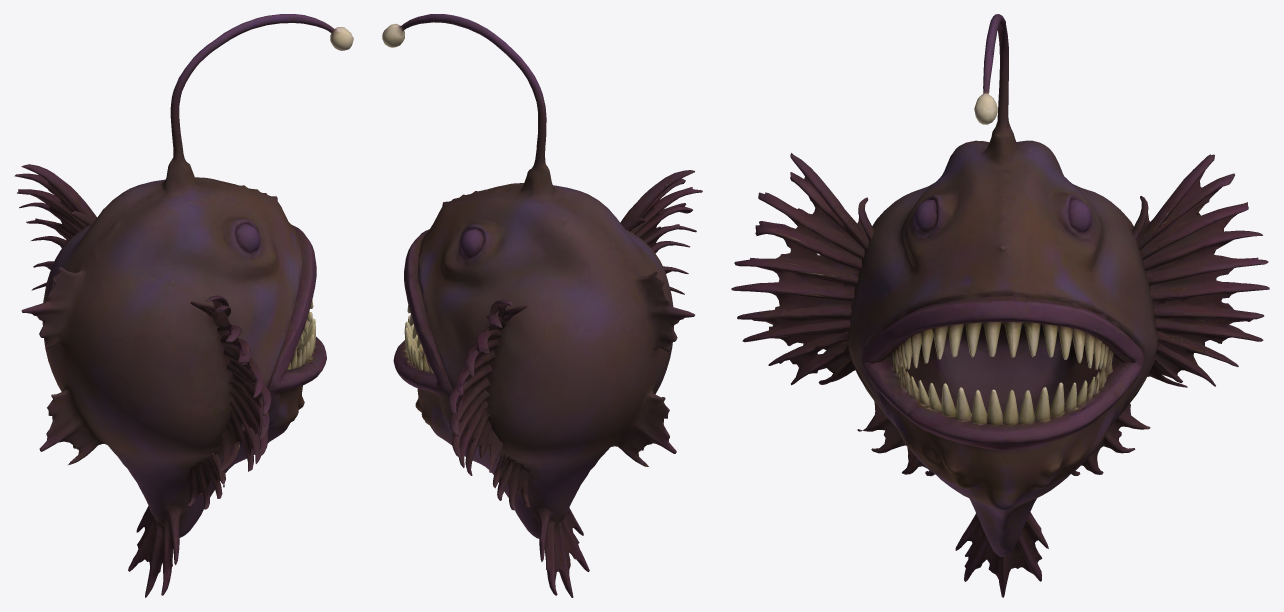
Rendered from anglerfish.glb.
The picture shows the model from 3 angles, left to right: view 1: azimuth 30°, elevation 25°; view 2: azimuth 150°, elevation 25°; view 3: azimuth 270°, elevation 25°; orthographic projection. The views are drawn at different scales.
Visible parts, largest first — view 1: geometry_0; view 2: geometry_0; view 3: geometry_0.
Boxes of the visible parts, box(x1,y1,x2,y2) form: geometry_0: box(14, 14, 353, 597); geometry_0: box(382, 14, 702, 597); geometry_0: box(731, 14, 1269, 597).
Bounding box in the file's own units: 0.6077 × 0.9986 × 0.7649.
1 material, 1 textured.
